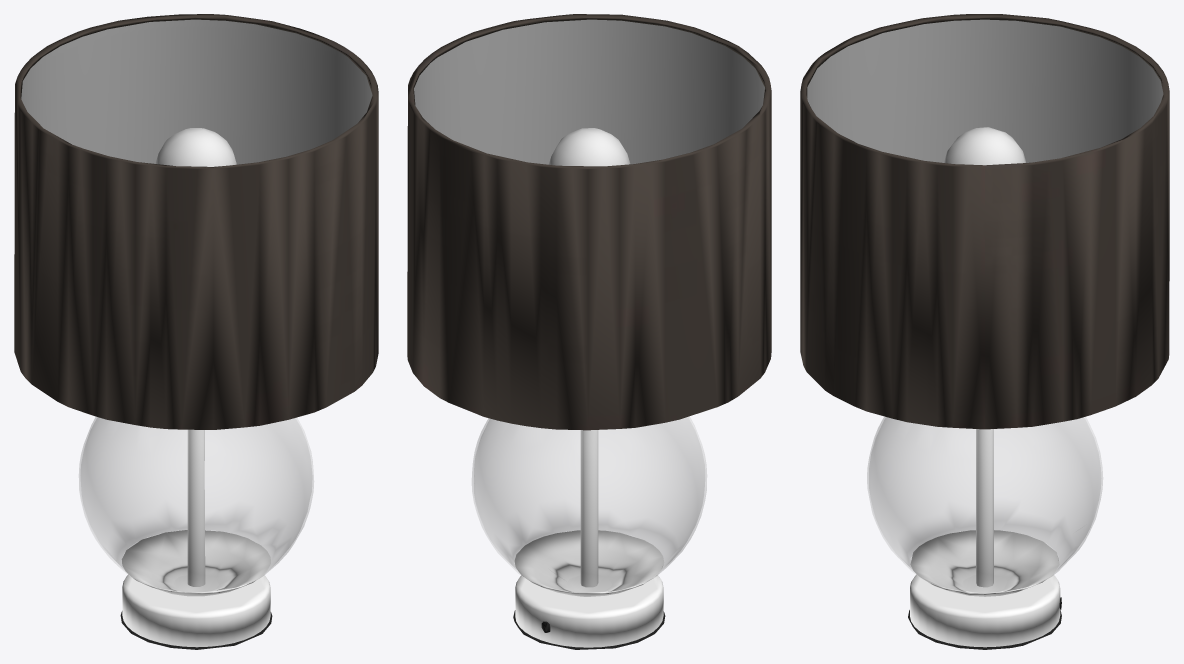
The model's file is luminaria.glb.
3 renders of one model, left to right at view 1: azimuth 30°, elevation 25°; view 2: azimuth 150°, elevation 25°; view 3: azimuth 270°, elevation 25°, orthographic.
Visible parts, largest first — view 1: lamp, lamp_transmission; view 2: lamp, lamp_transmission; view 3: lamp, lamp_transmission.
Part boxes in pixels (x1,y1,x2,y2): lamp: (14, 14, 378, 649); lamp_transmission: (79, 417, 313, 592); lamp: (407, 14, 771, 649); lamp_transmission: (472, 416, 706, 592); lamp: (800, 14, 1169, 649); lamp_transmission: (867, 417, 1102, 592).
Size of the model in its own units: 0.2968 by 0.4755 by 0.3016.
Materials: 2 (2 with a texture image).
